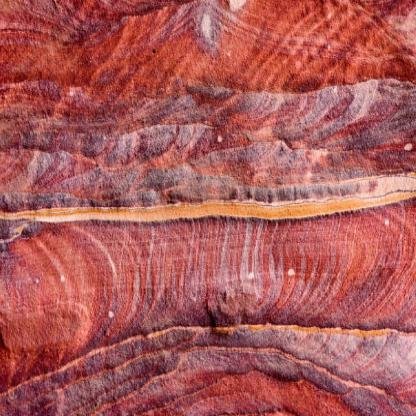Sedimentary_Sandstone: (1, 2, 415, 415)
